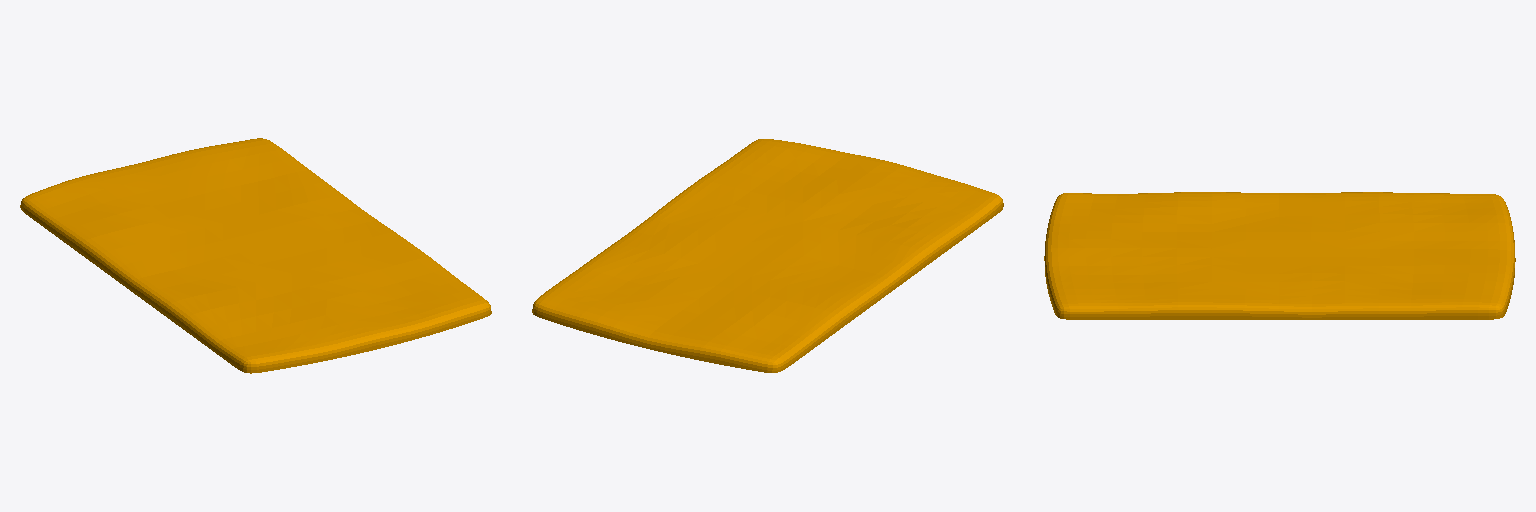
The robot description file, URDF, robot "pad":
<?xml version="0.0" ?>
<robot name="pad">
    <link name="baseLink">
        <contact>
            <lateral_friction value="1.0"/>
        </contact>
        <inertial>
            <origin rpy="0 0 0" xyz="0 0 0.0036"/>
            <mass value=".0"/>
            <inertia ixx="0" ixy="0" ixz="0" iyy="0" iyz="0" izz="0"/>
        </inertial>
        <visual>
            <origin rpy="0 0 0" xyz="0 0 0"/>
            <geometry>
                <mesh filename="meshes/pad.obj" scale="1 1 1"/>
            </geometry>
        </visual>
        <collision>
            <origin rpy="0 0 0" xyz="0 0 0.0036"/>
            <geometry>
                <box size="0.101 0.170 0.0052"/>
            </geometry>
        </collision>
    </link>
</robot>

--- What the picture shows (computed from the rendered views, not written in the file) ---
3 views of the same robot in one strip: view 1: azimuth 30°, elevation 25°; view 2: azimuth 150°, elevation 25°; view 3: azimuth 270°, elevation 25° (orthographic).
Model pad with 1 links and 0 joints (none), rooted at baseLink, posed all joints at 0.
Links seen in each view (by area): view 1: baseLink; view 2: baseLink; view 3: baseLink.
Boxes of the visible links, x1=… form: baseLink: x1=20, y1=138, x2=491, y2=373; baseLink: x1=532, y1=139, x2=1003, y2=372; baseLink: x1=1044, y1=192, x2=1515, y2=319.
Bounding box of the posed robot: 0.1013 × 0.1702 × 0.0053 m (x, y, z).
Meshes: 1 distinct files referenced, 1 mesh visuals loaded (1 OBJ).